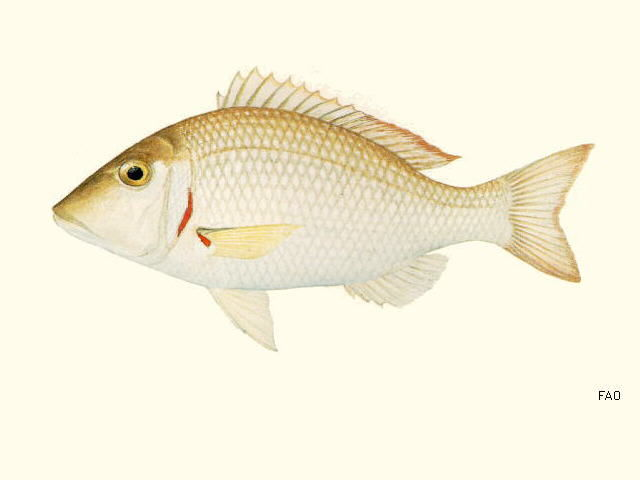fish: (51, 66, 596, 352)
